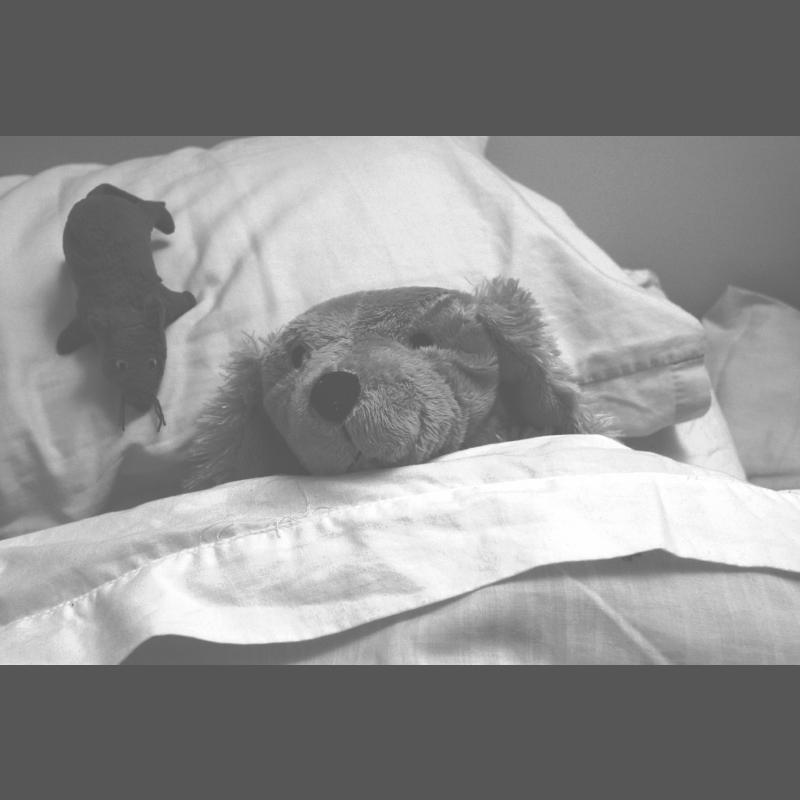pillow: (0, 135, 714, 535)
